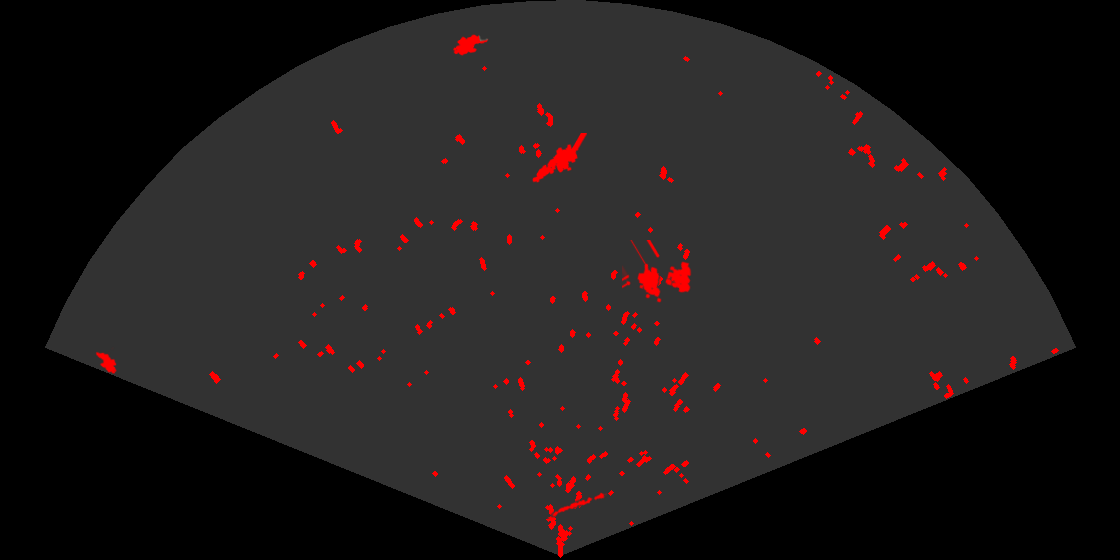AUV: (451, 33, 490, 57), (94, 346, 118, 375)
cage: (622, 240, 693, 304)
chain: (547, 491, 607, 519)
frogman: (531, 133, 587, 184)
